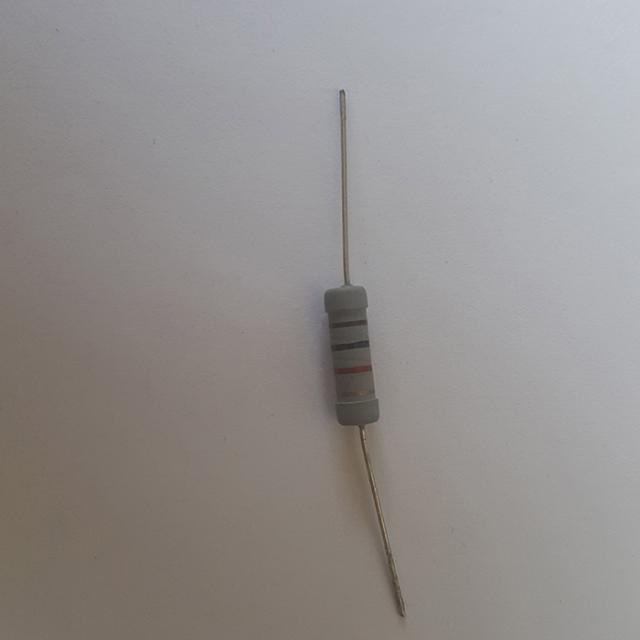black: (333, 341, 367, 351)
brown: (332, 320, 367, 329)
gold: (338, 389, 373, 397)
red: (338, 364, 373, 373)
resistor: (312, 274, 391, 435)
